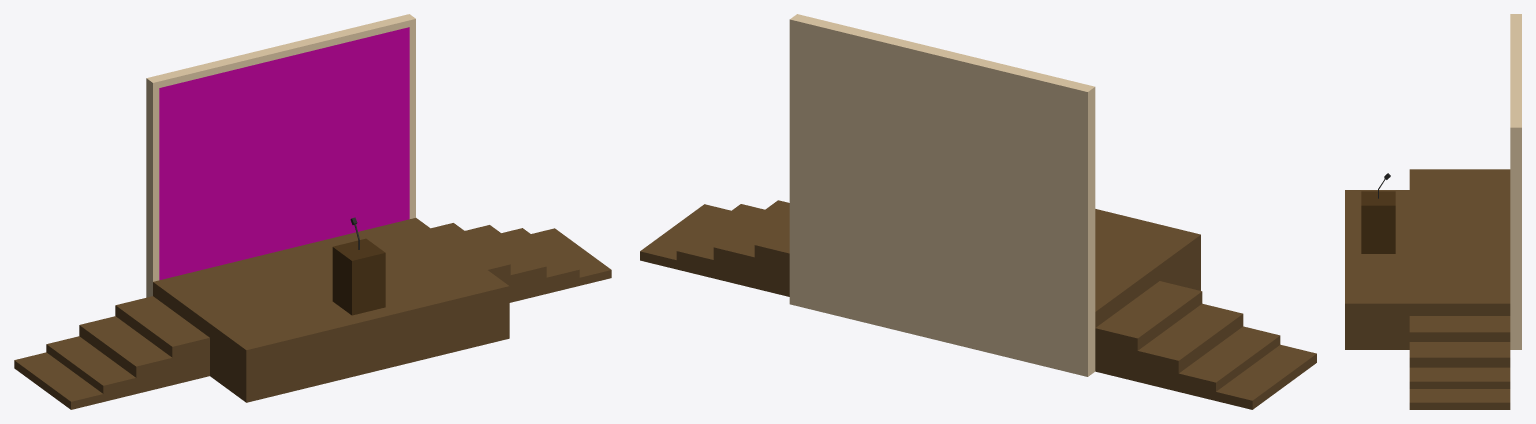
The model's file is Stage.fbx.
The picture shows the model from 3 angles, left to right: view 1: azimuth 30°, elevation 25°; view 2: azimuth 150°, elevation 25°; view 3: azimuth 270°, elevation 25°; orthographic projection. The views are drawn at different scales.
Visible parts, largest first — view 1: Cube, Cube.001; view 2: Cube; view 3: Cube, Cube.001.
Part boxes in pixels (left/top/right/bottom): Cube: left=14, top=14, right=611, bottom=409; Cube.001: left=332, top=217, right=385, bottom=315; Cube: left=640, top=14, right=1316, bottom=409; Cube: left=1345, top=14, right=1521, bottom=409; Cube.001: left=1361, top=173, right=1395, bottom=253.
Bounding box in the file's own units: 2152 × 957 × 689.
